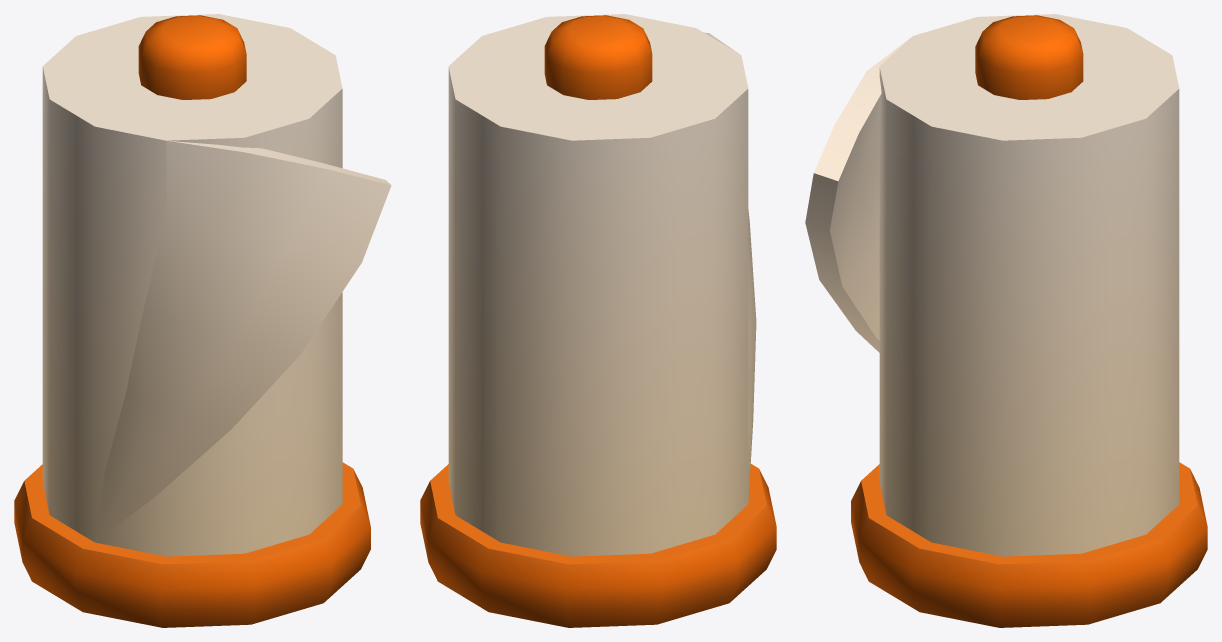
File: Tissue_01.fbx
3 views of the same model, side by side, from view 1: azimuth 30°, elevation 25°; view 2: azimuth 150°, elevation 25°; view 3: azimuth 270°, elevation 25° (orthographic).
Parts seen in each view (by area): view 1: Tissue_01; view 2: Tissue_01; view 3: Tissue_01.
Part boxes in pixels (x1,y1,x2,y2): Tissue_01: (14, 14, 391, 627); Tissue_01: (420, 14, 776, 627); Tissue_01: (805, 14, 1207, 627).
Bounding box in the file's own units: 43.36 × 70.83 × 48.94.
